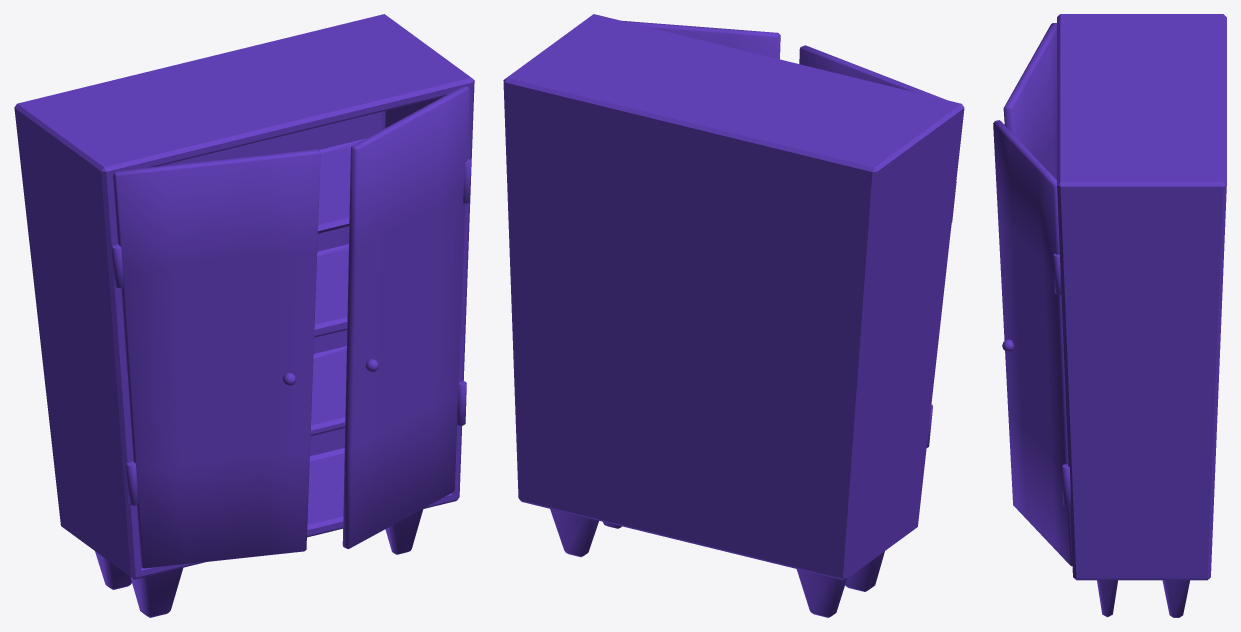
The model's file is armoire.fbx.
The picture shows the model from 3 angles, left to right: view 1: azimuth 30°, elevation 25°; view 2: azimuth 150°, elevation 25°; view 3: azimuth 270°, elevation 25°; orthographic projection. The views are drawn at different scales.
Parts seen in each view (by area): view 1: Armoire; view 2: Armoire; view 3: Armoire.
Boxes of the visible parts, bbox=[...] form: Armoire: bbox=[14, 14, 474, 617]; Armoire: bbox=[503, 14, 964, 617]; Armoire: bbox=[993, 14, 1226, 617].
Size of the model in its own units: 41.08 by 50.84 by 23.76.
